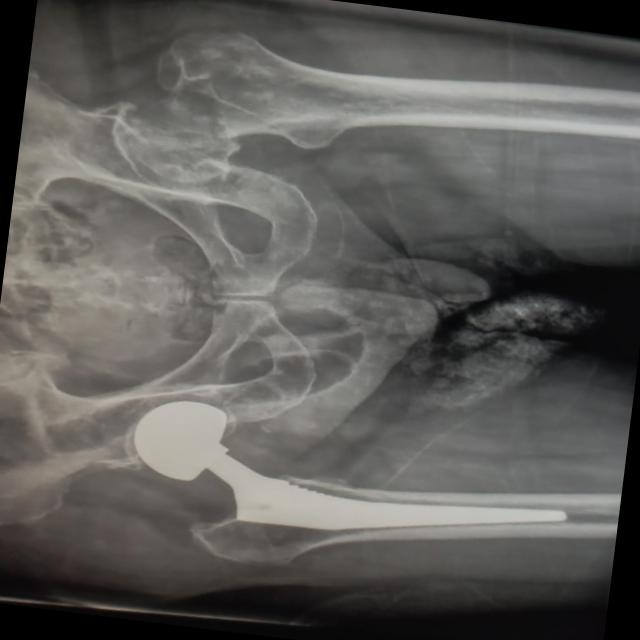left-neck: (155, 30, 447, 147), (126, 93, 240, 181)
